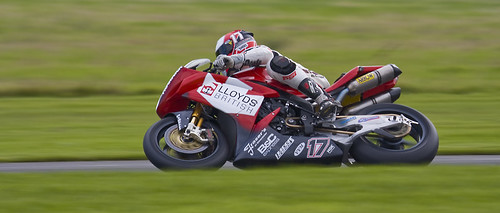helmet: (211, 24, 257, 49)
